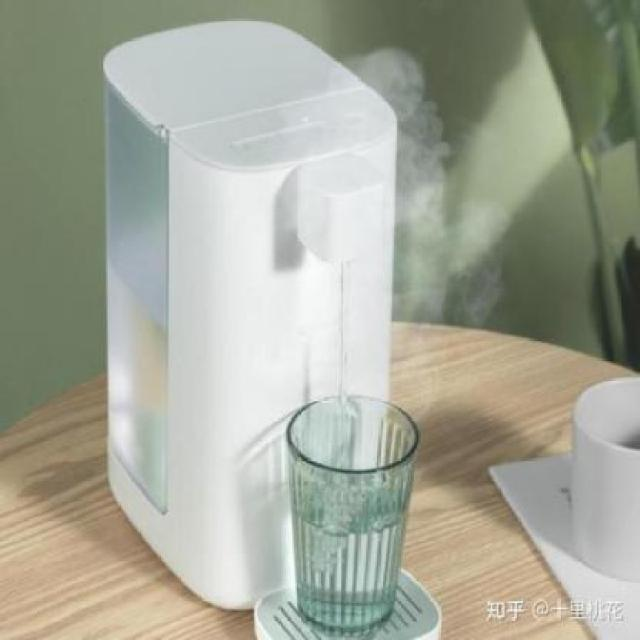cooler: (102, 17, 399, 613)
